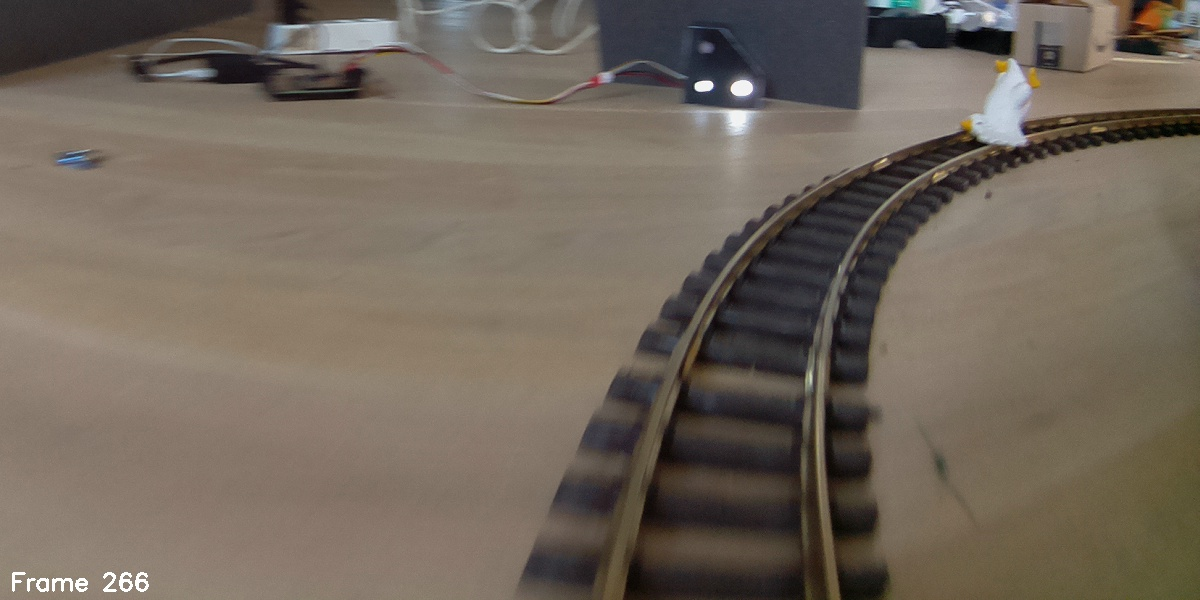Halt: (681, 22, 766, 109)
